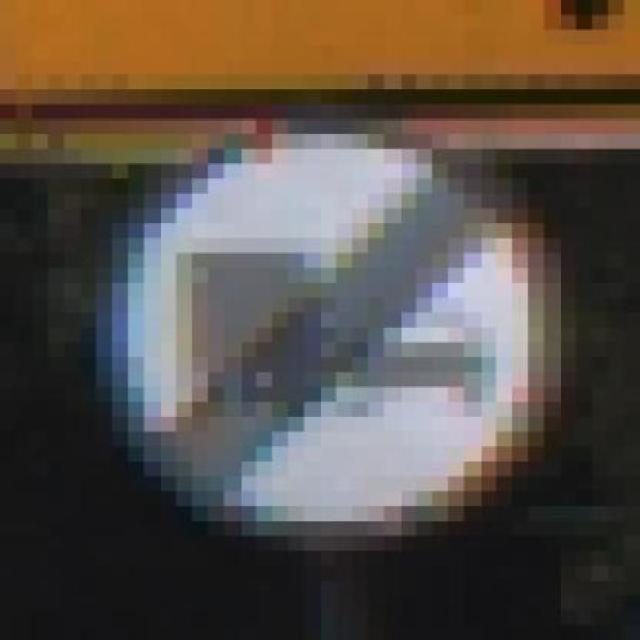Overtaking by trucks is prohibited: (49, 89, 576, 566)
